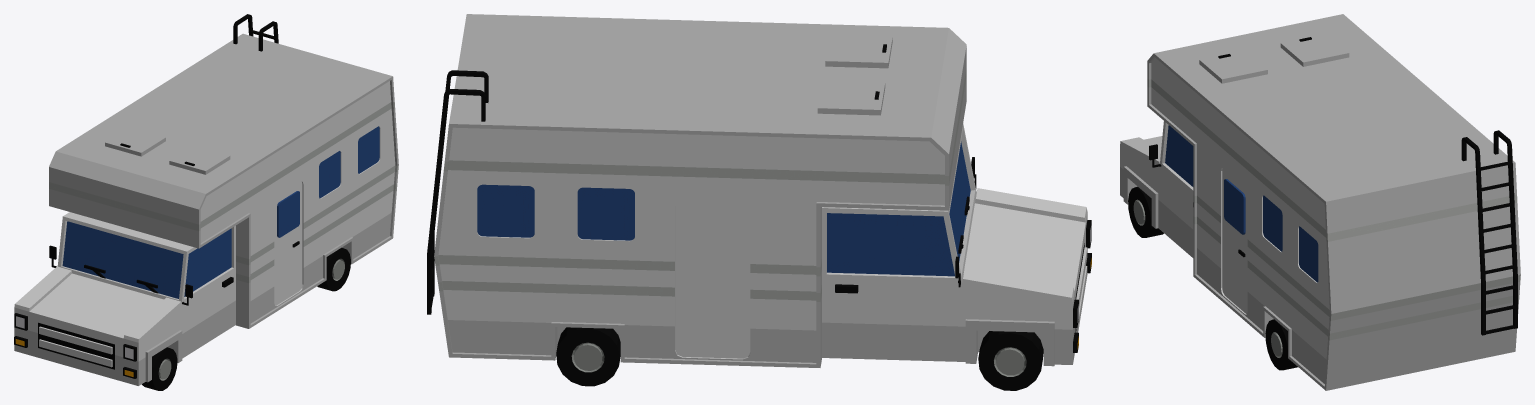
The picture shows the model from 3 angles, left to right: view 1: azimuth 30°, elevation 25°; view 2: azimuth 150°, elevation 25°; view 3: azimuth 270°, elevation 25°; orthographic projection. The views are drawn at different scales.
Parts seen in each view (by area): view 1: Cube.016; view 2: Cube.016; view 3: Cube.016.
Boxes of the visible parts, x1=… form: Cube.016: x1=14, y1=14, x2=398, y2=390; Cube.016: x1=427, y1=14, x2=1091, y2=390; Cube.016: x1=1120, y1=14, x2=1520, y2=390.
Bounding box in the file's own units: 4.42 × 2.07 × 3.21.
2 materials, 2 textured.
